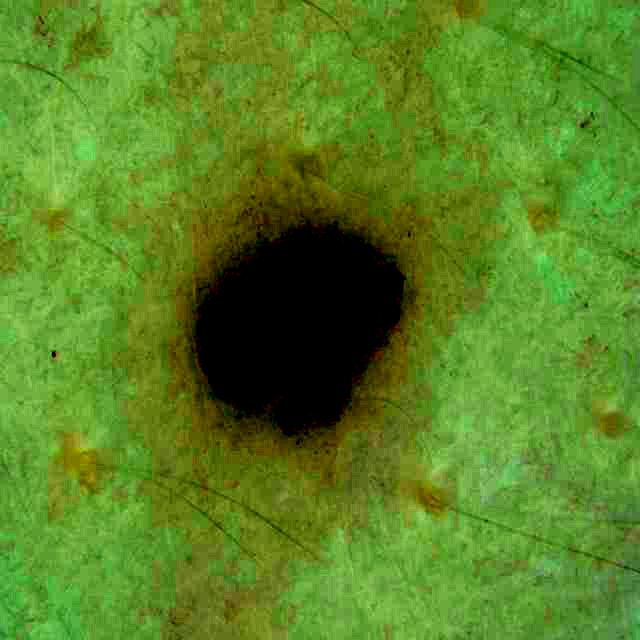MEL: (202, 232, 403, 430)
